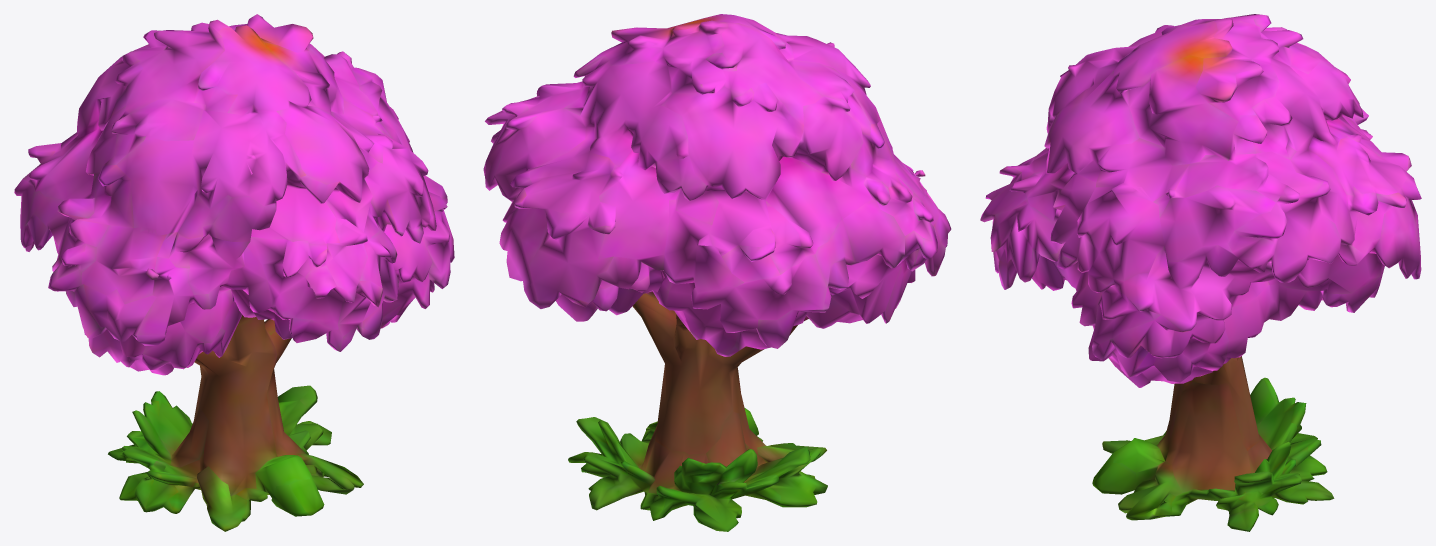
File: tt_pink.glb
3 views of the same model, side by side, from view 1: azimuth 30°, elevation 25°; view 2: azimuth 150°, elevation 25°; view 3: azimuth 270°, elevation 25° (orthographic). The views are drawn at different scales.
Parts seen in each view (by area): view 1: tree; view 2: tree; view 3: tree.
Boxes of the visible parts, left/top/right/bottom form: tree: left=14, top=14, right=454, bottom=531; tree: left=483, top=14, right=951, bottom=531; tree: left=980, top=14, right=1421, bottom=531.
Size of the model in its own units: 0.9277 by 1 by 0.8808.
Materials: 1 (1 with a texture image).
